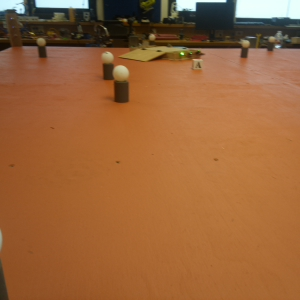obstacle: (113, 65, 133, 103), (100, 53, 112, 81), (237, 38, 250, 57), (38, 40, 50, 59), (267, 35, 276, 52)
side: (171, 49, 203, 57)
slope: (125, 49, 167, 61)
